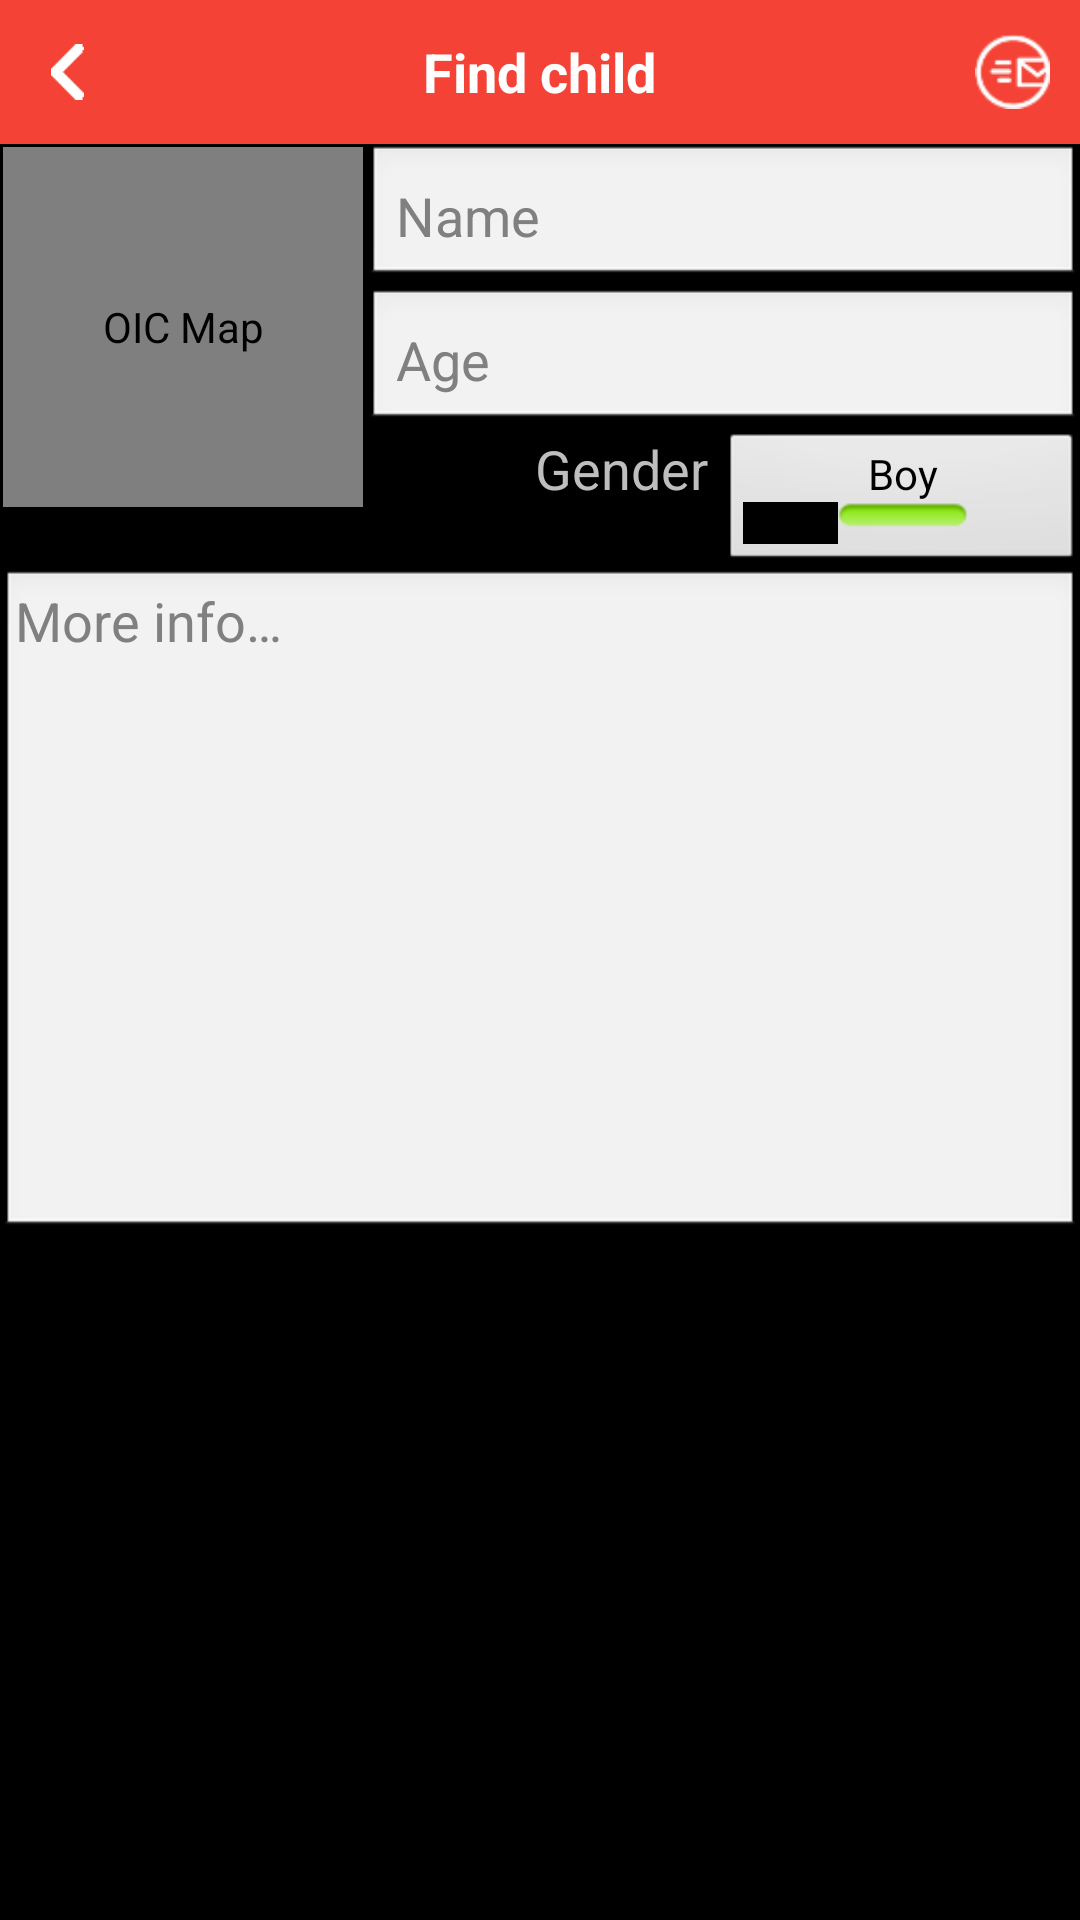

Named icons in this screenshot (1080x1920) and their centers, [x,y]:
back: [67,72]
sent: [1012,72]
